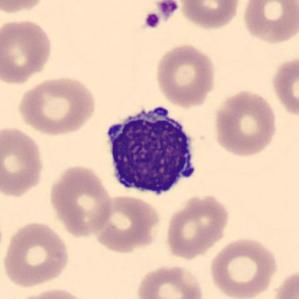Lymphocyte: (99, 97, 202, 200)
Platelets: (156, 0, 180, 19), (143, 11, 162, 30)
RBC: (46, 162, 114, 239), (15, 74, 99, 136), (1, 219, 71, 289), (211, 87, 279, 158), (207, 234, 279, 299), (164, 192, 232, 260), (90, 193, 163, 254), (153, 42, 217, 108), (0, 16, 56, 86), (0, 124, 46, 200), (239, 0, 298, 46), (134, 262, 206, 299), (178, 0, 242, 30), (269, 54, 298, 119), (10, 286, 90, 299), (271, 266, 298, 299), (0, 0, 49, 16)
